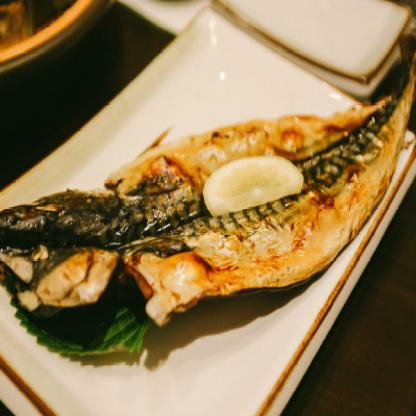Peixe: (0, 18, 416, 358)
